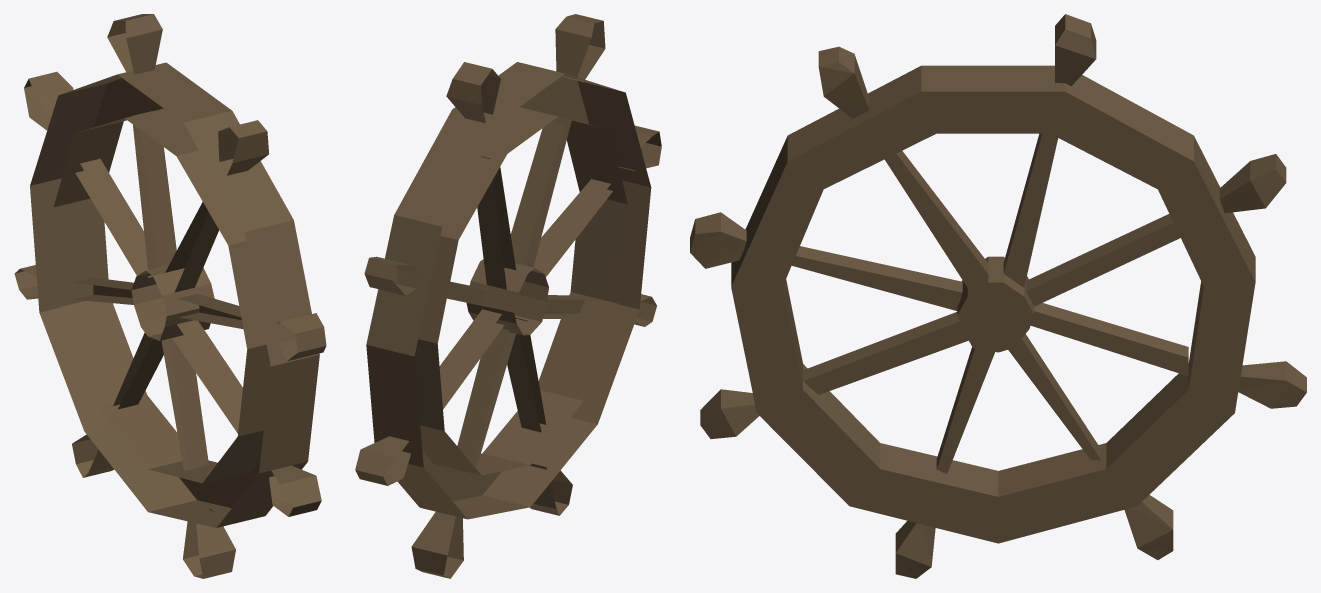
The model's file is obj_hanging_wheel_0.obj.
3 views of the same model, side by side, from view 1: azimuth 30°, elevation 25°; view 2: azimuth 150°, elevation 25°; view 3: azimuth 270°, elevation 25° (orthographic). The views are drawn at different scales.
Bounding box in the file's own units: 0.0938 × 0.9219 × 0.9375.
